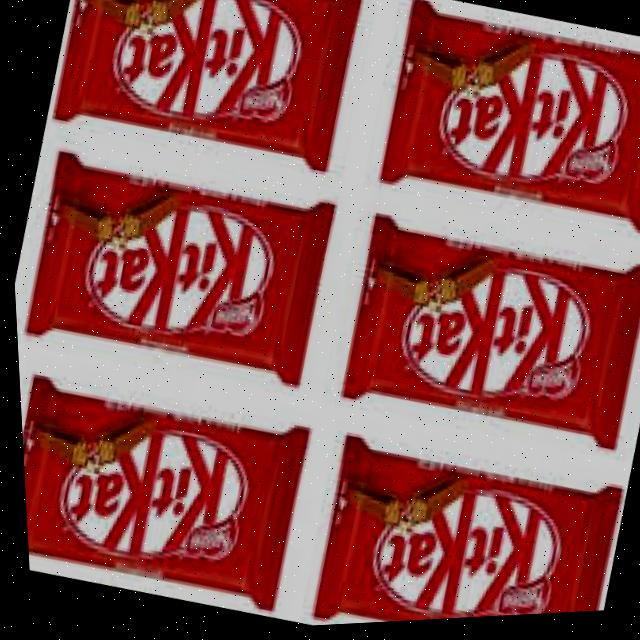kitkat: (11, 137, 340, 396), (328, 204, 640, 470), (15, 358, 316, 628), (364, 0, 640, 255), (298, 433, 621, 629), (47, 0, 372, 185)
